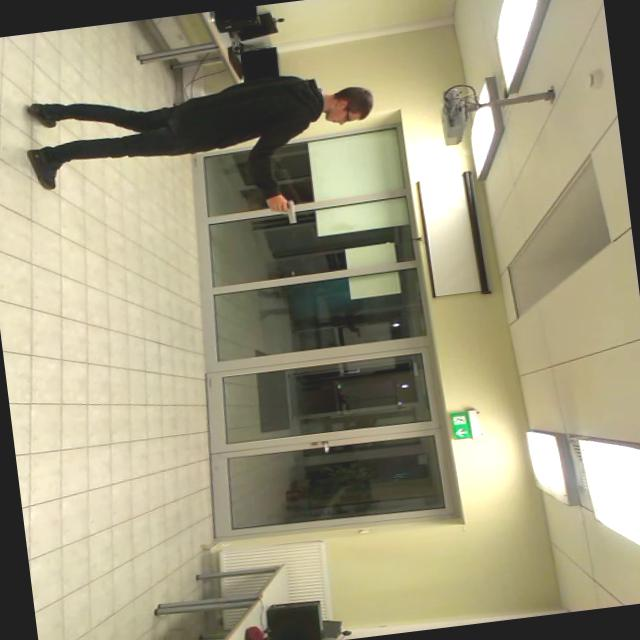handgun: (257, 188, 299, 240)
